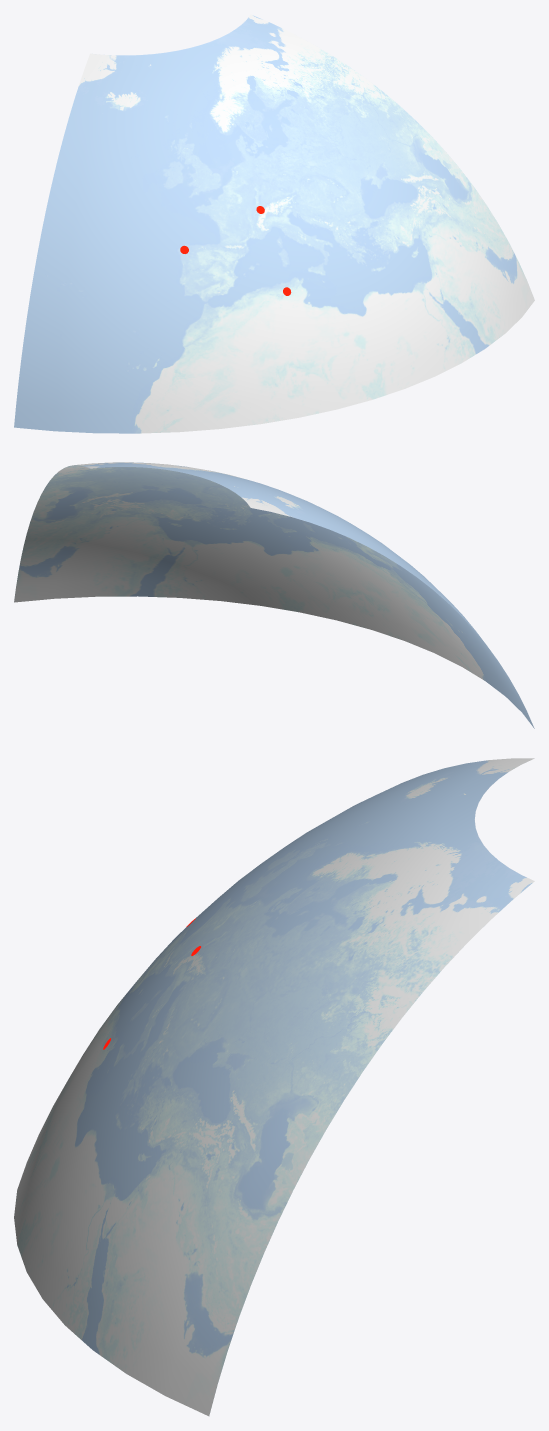
File: world.glb
3 renders of one model, top to bottom at view 1: azimuth 30°, elevation 25°; view 2: azimuth 150°, elevation 25°; view 3: azimuth 270°, elevation 25°, orthographic. The views are drawn at different scales.
Visible parts, largest first — view 1: world; view 2: world; view 3: world.
Boxes of the visible parts, <box> form: world: <box>14,14,534,433</box>; world: <box>14,462,534,728</box>; world: <box>14,758,534,1416</box>.
Size of the model in its own units: 1.33 by 0.6201 by 0.7363.
4 materials, 1 textured.
